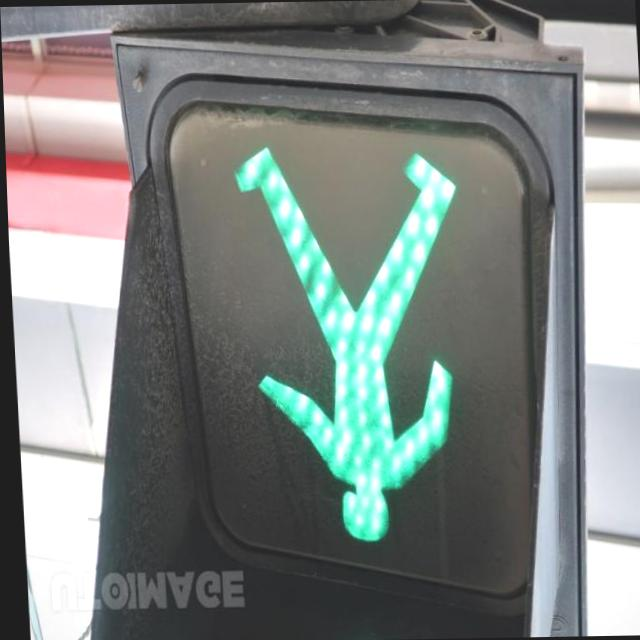green_light: (180, 132, 504, 554)
